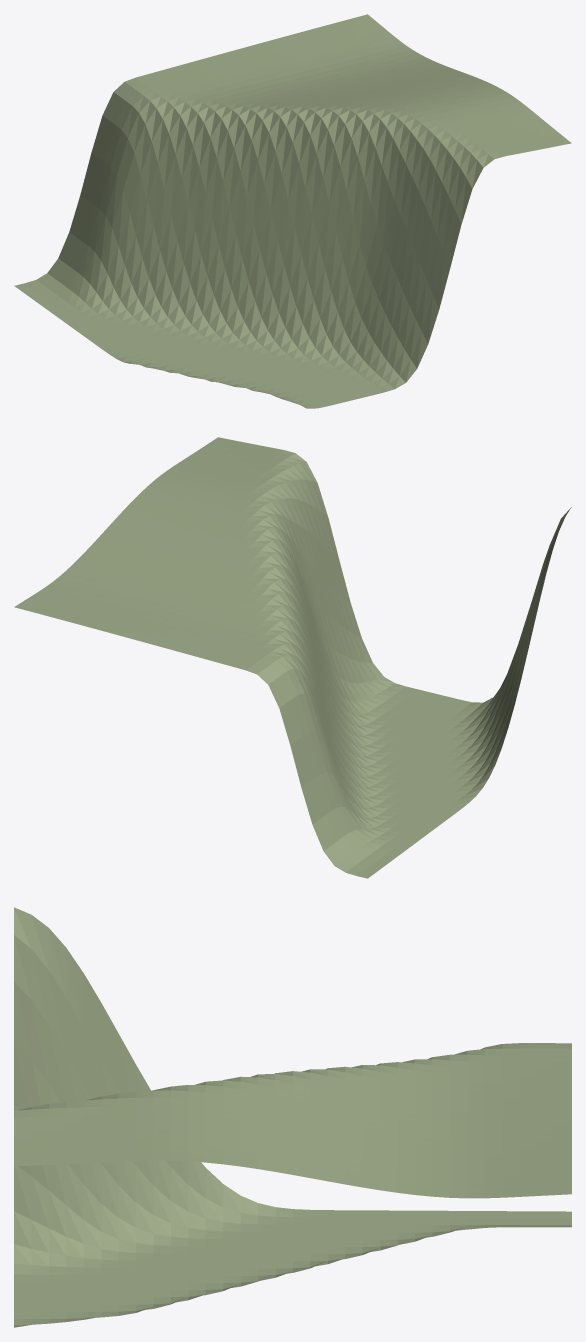
Rendered from canyon-2-4.glb.
3 views of the same model, one above another, from view 1: azimuth 30°, elevation 25°; view 2: azimuth 150°, elevation 25°; view 3: azimuth 270°, elevation 25° (orthographic). The views are drawn at different scales.
Parts seen in each view (by area): view 1: canyon-2-4; view 2: canyon-2-4; view 3: canyon-2-4.
Part boxes in pixels (x1,y1,x2,y2): canyon-2-4: [14, 14, 571, 408]; canyon-2-4: [14, 437, 571, 878]; canyon-2-4: [14, 907, 571, 1327].
Bounding box in the file's own units: 128 × 77.01 × 128.
